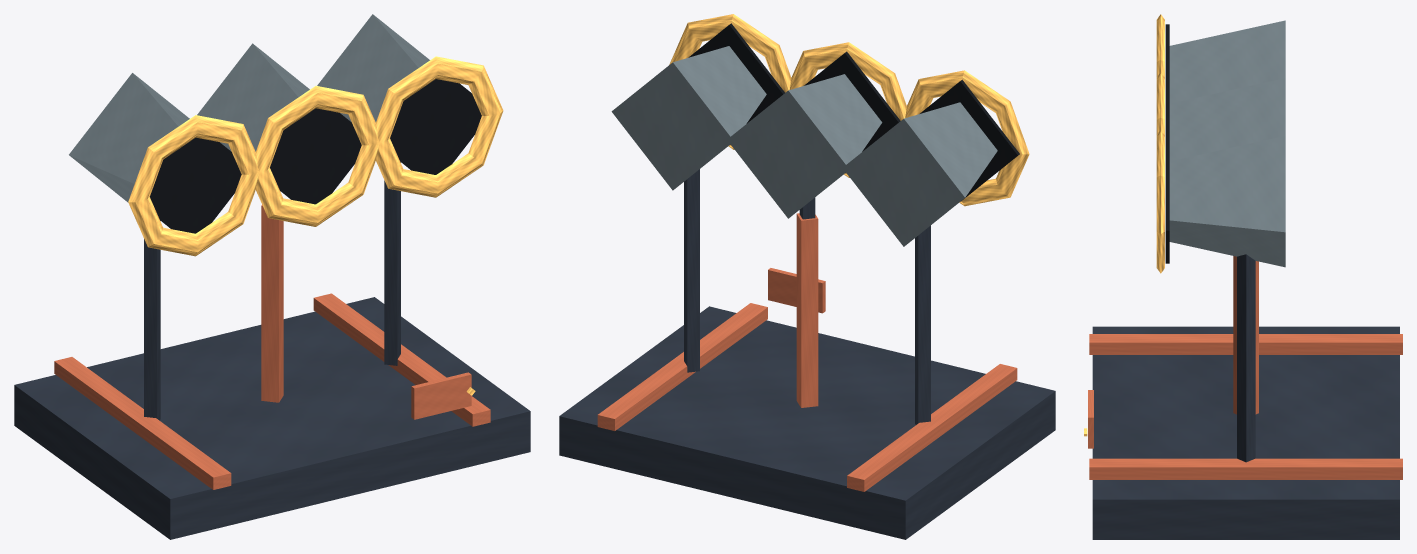
File: atlas100-s024-a01.lod1.glb
3 views of the same model, side by side, from view 1: azimuth 30°, elevation 25°; view 2: azimuth 150°, elevation 25°; view 3: azimuth 270°, elevation 25° (orthographic). The views are drawn at different scales.
Parts seen in each view (by area): view 1: atlas100-s024-a01:part-000, atlas100-s024-a01:part-008, atlas100-s024-a01:part-016, atlas100-s024-a01:part-012, atlas100-s024-a01:part-006, atlas100-s024-a01:part-007, atlas100-s024-a01:part-011, atlas100-s024-a01:part-015, atlas100-s024-a01:part-014, atlas100-s024-a01:part-010, atlas100-s024-a01:part-001, atlas100-s024-a01:part-003 (+4 smaller); view 2: atlas100-s024-a01:part-000, atlas100-s024-a01:part-006, atlas100-s024-a01:part-014, atlas100-s024-a01:part-010, atlas100-s024-a01:part-001, atlas100-s024-a01:part-002, atlas100-s024-a01:part-003, atlas100-s024-a01:part-008, atlas100-s024-a01:part-013, atlas100-s024-a01:part-005, atlas100-s024-a01:part-016, atlas100-s024-a01:part-012 (+4 smaller); view 3: atlas100-s024-a01:part-000, atlas100-s024-a01:part-014, atlas100-s024-a01:part-002, atlas100-s024-a01:part-010, atlas100-s024-a01:part-006, atlas100-s024-a01:part-001, atlas100-s024-a01:part-013, atlas100-s024-a01:part-016, atlas100-s024-a01:part-003, atlas100-s024-a01:part-015, atlas100-s024-a01:part-012, atlas100-s024-a01:part-008.
Part boxes in pixels (x1,y1,x2,y2): atlas100-s024-a01:part-000: [14, 297, 530, 539]; atlas100-s024-a01:part-008: [128, 115, 259, 256]; atlas100-s024-a01:part-016: [376, 56, 503, 197]; atlas100-s024-a01:part-012: [256, 85, 379, 226]; atlas100-s024-a01:part-006: [69, 73, 189, 202]; atlas100-s024-a01:part-007: [150, 137, 241, 233]; atlas100-s024-a01:part-011: [270, 108, 361, 204]; atlas100-s024-a01:part-015: [390, 79, 481, 174]; atlas100-s024-a01:part-014: [317, 14, 429, 122]; atlas100-s024-a01:part-010: [197, 43, 309, 151]; atlas100-s024-a01:part-001: [54, 357, 231, 489]; atlas100-s024-a01:part-003: [261, 205, 283, 402]; atlas100-s024-a01:part-000: [559, 306, 1055, 539]; atlas100-s024-a01:part-006: [843, 102, 997, 246]; atlas100-s024-a01:part-014: [611, 46, 766, 190]; atlas100-s024-a01:part-010: [728, 74, 882, 218]; atlas100-s024-a01:part-001: [847, 364, 1017, 491]; atlas100-s024-a01:part-002: [597, 303, 767, 430]; atlas100-s024-a01:part-003: [796, 213, 818, 407]; atlas100-s024-a01:part-008: [905, 70, 1029, 206]; atlas100-s024-a01:part-013: [684, 169, 699, 372]; atlas100-s024-a01:part-005: [915, 225, 930, 424]; atlas100-s024-a01:part-016: [669, 14, 791, 149]; atlas100-s024-a01:part-012: [789, 42, 906, 177]; atlas100-s024-a01:part-000: [1092, 326, 1399, 539]; atlas100-s024-a01:part-014: [1169, 136, 1285, 267]; atlas100-s024-a01:part-002: [1089, 458, 1402, 479]; atlas100-s024-a01:part-010: [1169, 78, 1285, 161]; atlas100-s024-a01:part-006: [1169, 20, 1285, 103]; atlas100-s024-a01:part-001: [1089, 334, 1402, 354]; atlas100-s024-a01:part-013: [1237, 254, 1255, 462]; atlas100-s024-a01:part-016: [1156, 129, 1164, 273]; atlas100-s024-a01:part-003: [1233, 256, 1258, 414]; atlas100-s024-a01:part-015: [1165, 139, 1169, 263]; atlas100-s024-a01:part-012: [1156, 72, 1164, 134]; atlas100-s024-a01:part-008: [1156, 14, 1164, 76].
Bounding box in the file's own units: 2.5 × 2.45 × 1.87.
5 materials, 5 textured.
